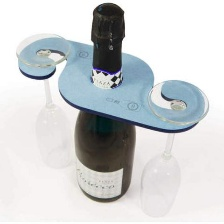bottle: (74, 2, 138, 207)
glass: (138, 76, 213, 219), (10, 27, 76, 170)
